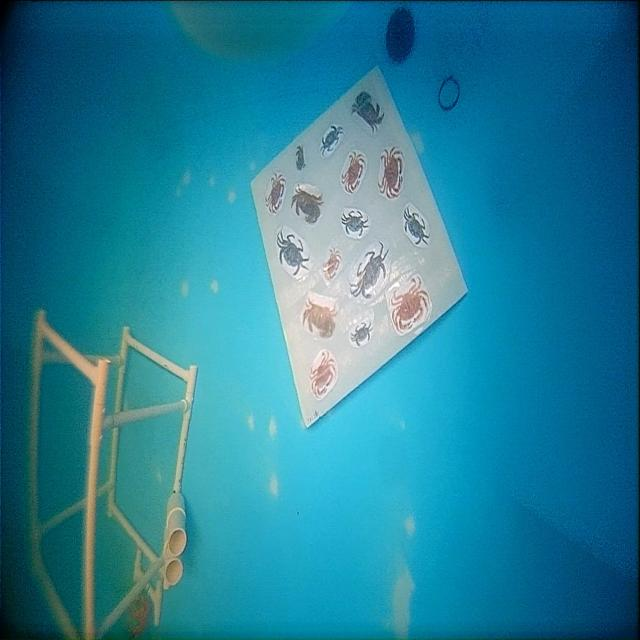GreenCrab: (350, 242, 389, 299), (277, 231, 310, 276), (319, 125, 343, 156), (350, 322, 371, 346)
